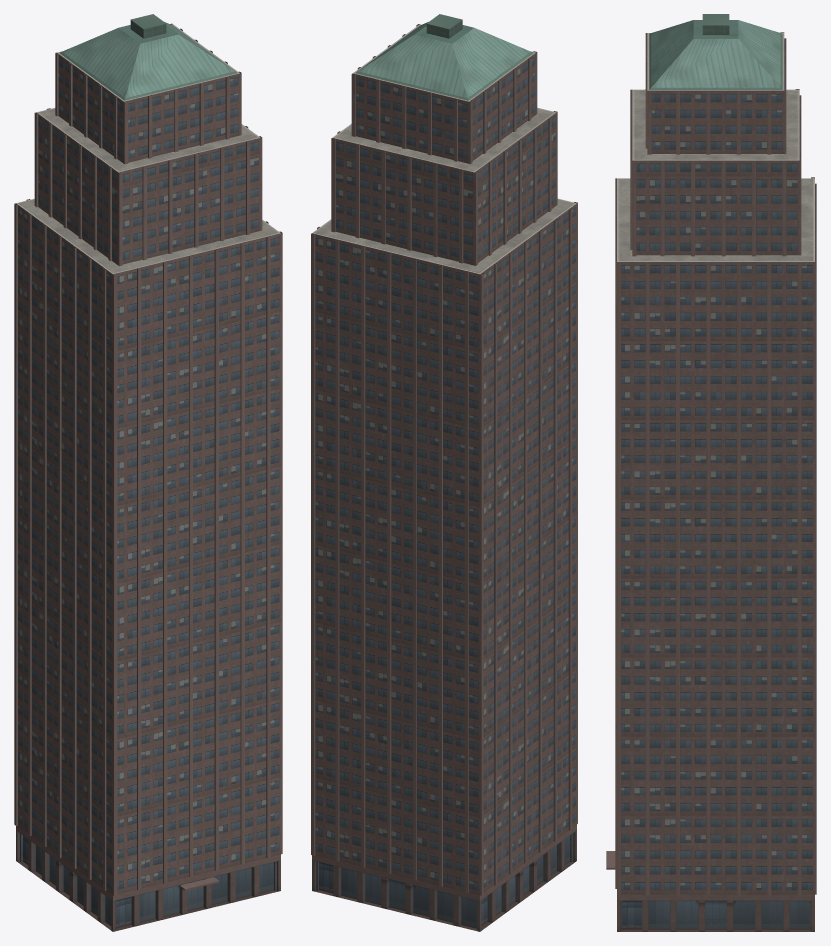
File: sf_glasstower_c.glb
3 views of the same model, side by side, from view 1: azimuth 30°, elevation 25°; view 2: azimuth 150°, elevation 25°; view 3: azimuth 270°, elevation 25° (orthographic).
Visible parts, largest first — view 1: sf_glasstower_c; view 2: sf_glasstower_c; view 3: sf_glasstower_c.
Part boxes in pixels (<box>): sf_glasstower_c: <box>14,14,282,931</box>; sf_glasstower_c: <box>311,14,577,931</box>; sf_glasstower_c: <box>606,14,816,931</box>.
Size of the model in its own units: 45.01 by 215 by 47.
Materials: 1 (1 with a texture image).
